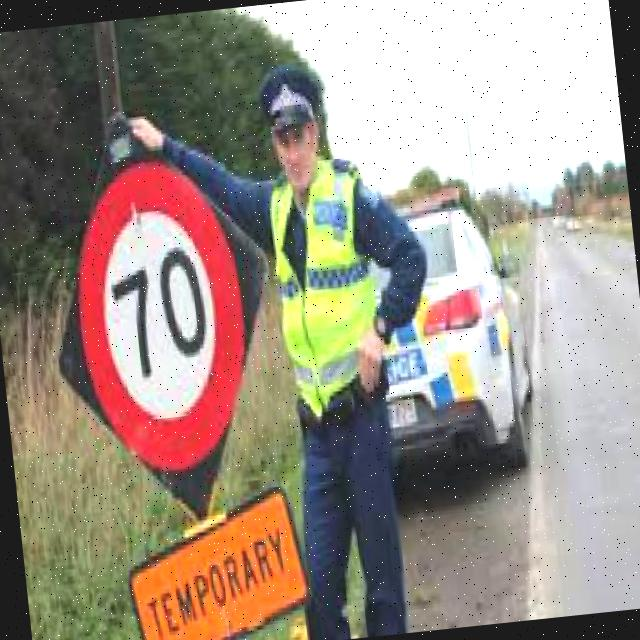Ograniczenie predkosci do 70: (59, 142, 260, 474)
